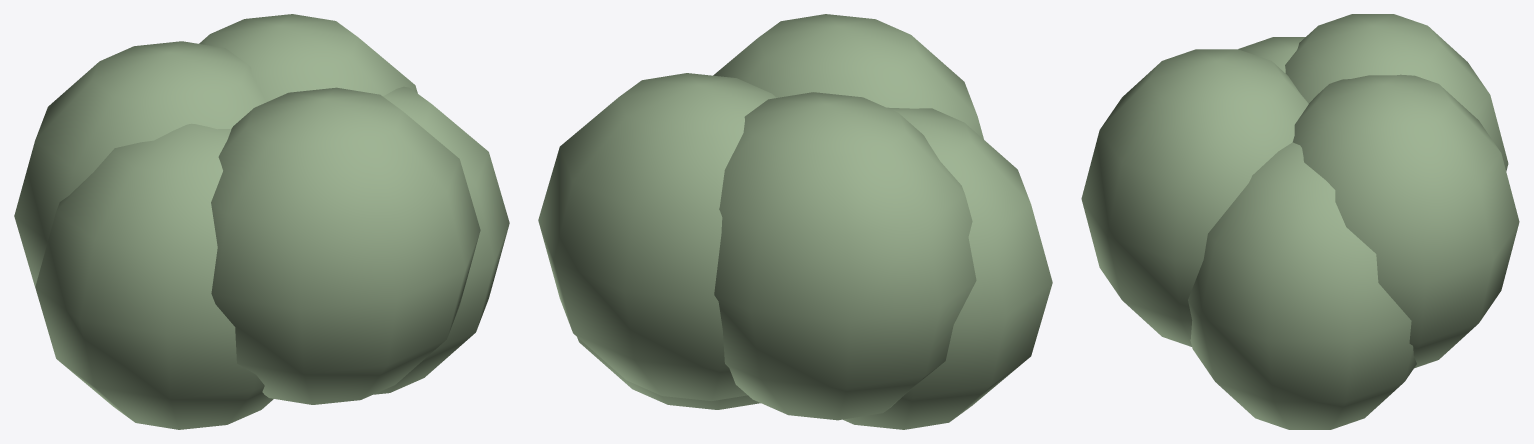
The model's file is Shrub0_S80.fbx.
3 renders of one model, left to right at view 1: azimuth 30°, elevation 25°; view 2: azimuth 150°, elevation 25°; view 3: azimuth 270°, elevation 25°, orthographic. The views are drawn at different scales.
Visible parts, largest first — view 1: Shrub0_S80; view 2: Shrub0_S80; view 3: Shrub0_S80.
Part boxes in pixels (left/top/right/bottom): Shrub0_S80: left=14, top=14, right=509, bottom=429; Shrub0_S80: left=538, top=14, right=1052, bottom=429; Shrub0_S80: left=1081, top=14, right=1519, bottom=429.
Size of the model in its own units: 162 by 150 by 122.
